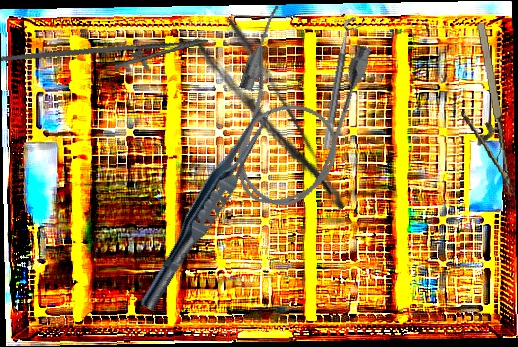Cannula: (208, 1, 377, 221)
Dressing Forceps: (191, 14, 350, 232)
Fixation Ring: (322, 15, 364, 152)
Needle Holder: (0, 13, 212, 102), (448, 21, 516, 203)
Tissue Forceps: (134, 97, 281, 317)
